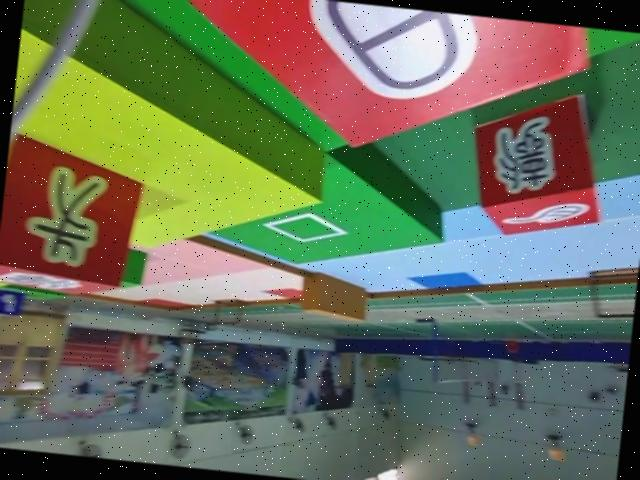R2 Fake: (171, 0, 595, 173), (0, 132, 145, 298), (462, 85, 613, 244)
